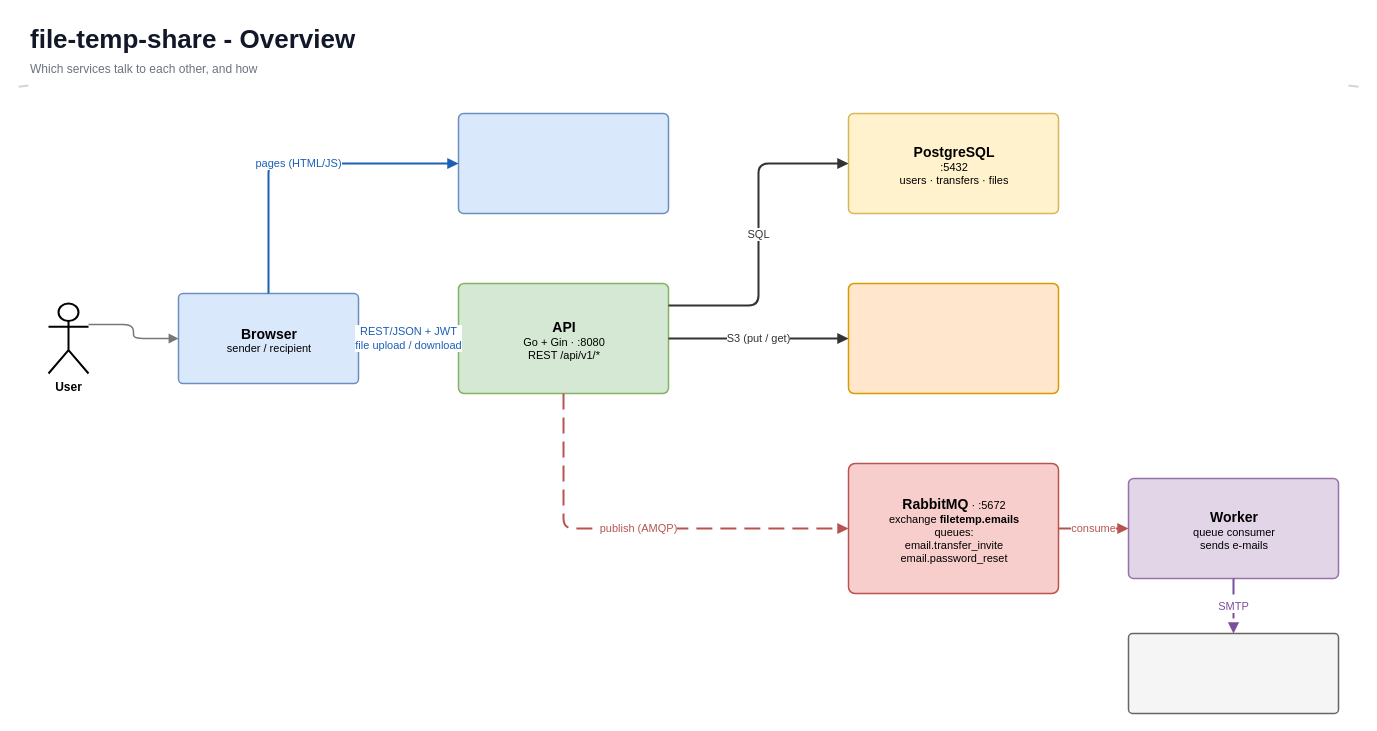
The diagram is 1377 pixels wide and 731 high, and some of its shapes have lost their labels. The shapes that lost their labels are listed below. From the top down, each one's box as (x1, y1, x2, y2) in pixels, then its label:
(457, 112, 669, 214): Frontend Next.js · :3000
(847, 282, 1059, 394): MinIO (S3) :9000 bucket 'transfers' (files)
(1127, 632, 1339, 714): Gmail SMTP smtp.gmail.com:587
